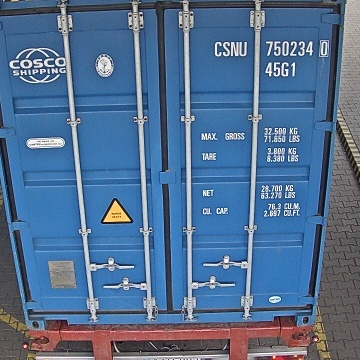serial_id: (215, 40, 328, 56)
